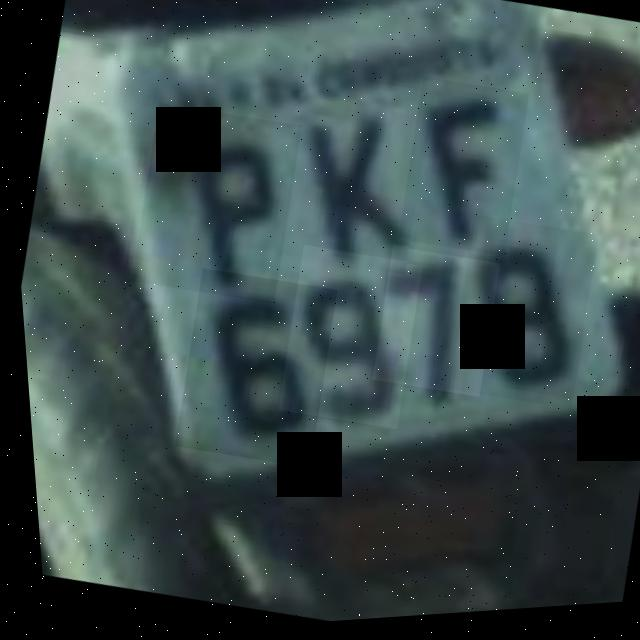6: (157, 264, 342, 479)
7: (358, 245, 503, 409)
9: (430, 215, 603, 422), (262, 245, 427, 441)
F: (384, 77, 536, 268)
K: (265, 95, 436, 287)
P: (116, 97, 309, 315)
